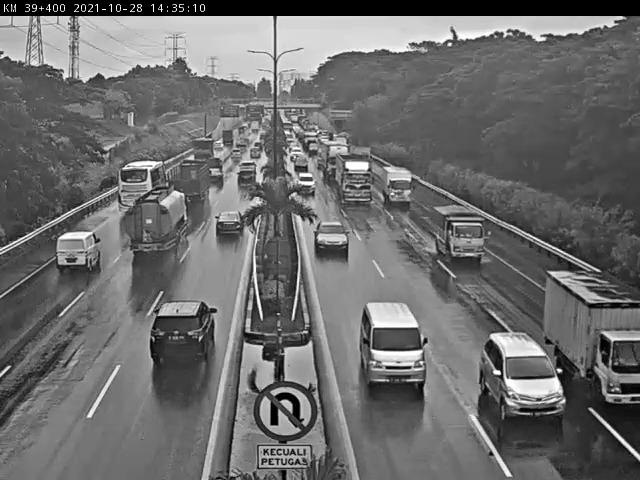big bus: (110, 150, 172, 216)
big truck: (120, 181, 193, 276), (163, 155, 220, 215), (329, 155, 385, 208)
car: (474, 315, 577, 431), (350, 293, 438, 397), (142, 285, 230, 382), (44, 223, 106, 276), (310, 214, 352, 259), (209, 204, 248, 246), (290, 167, 323, 194), (230, 166, 259, 192)
small truck: (540, 256, 640, 400), (427, 200, 489, 266), (374, 164, 420, 211)
